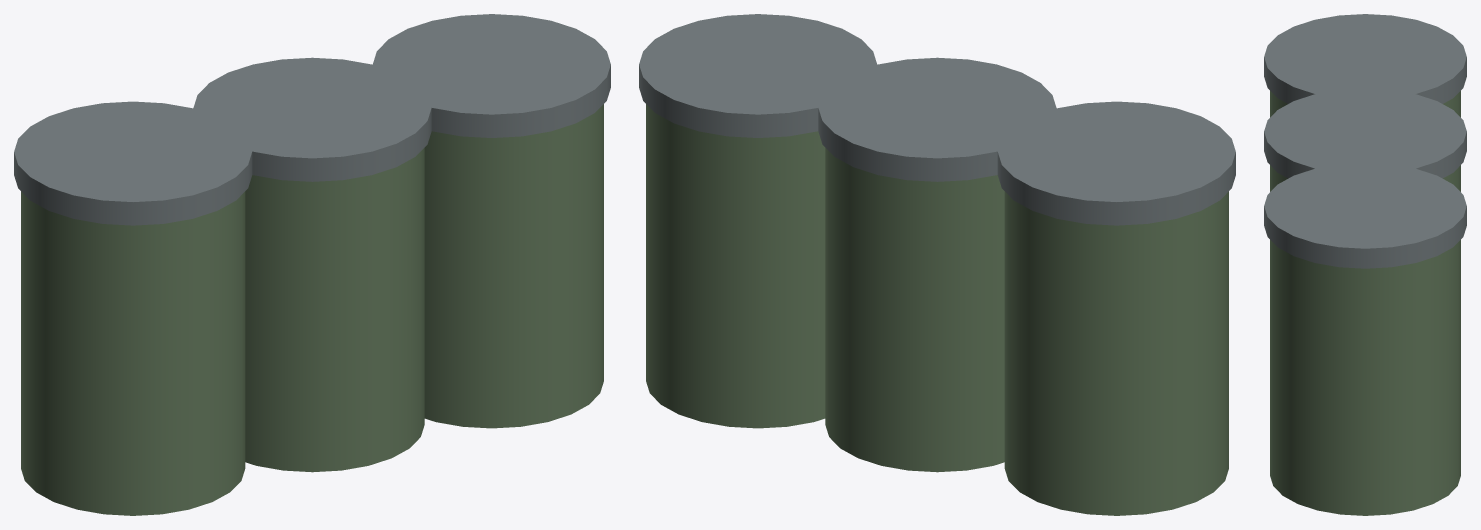
File: SM_RationTins.glb
3 views of the same model, side by side, from view 1: azimuth 30°, elevation 25°; view 2: azimuth 150°, elevation 25°; view 3: azimuth 270°, elevation 25° (orthographic). The views are drawn at different scales.
Visible parts, largest first — view 1: SM_RationTins; view 2: SM_RationTins; view 3: SM_RationTins.
Part boxes in pixels (left/top/right/bottom): SM_RationTins: left=14, top=14, right=610, bottom=515; SM_RationTins: left=639, top=14, right=1235, bottom=515; SM_RationTins: left=1264, top=14, right=1466, bottom=515.
Size of the model in its own units: 0.378 by 0.2025 by 0.138.
